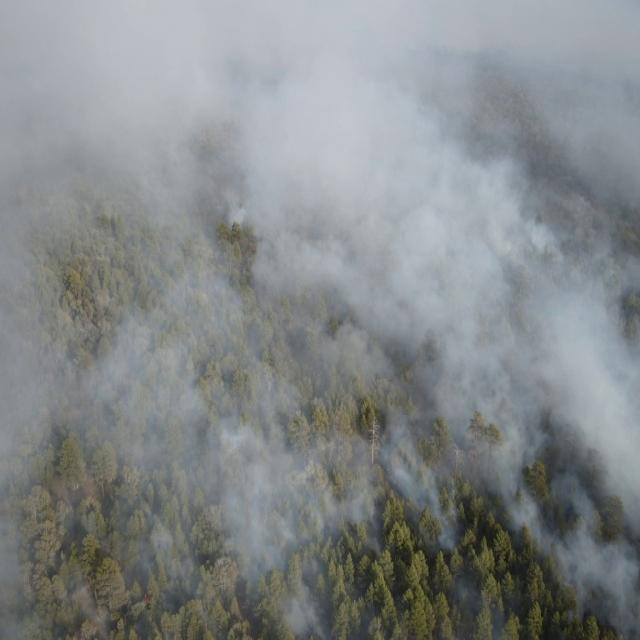fire: (140, 592, 152, 608)
smoke: (0, 0, 640, 640)
